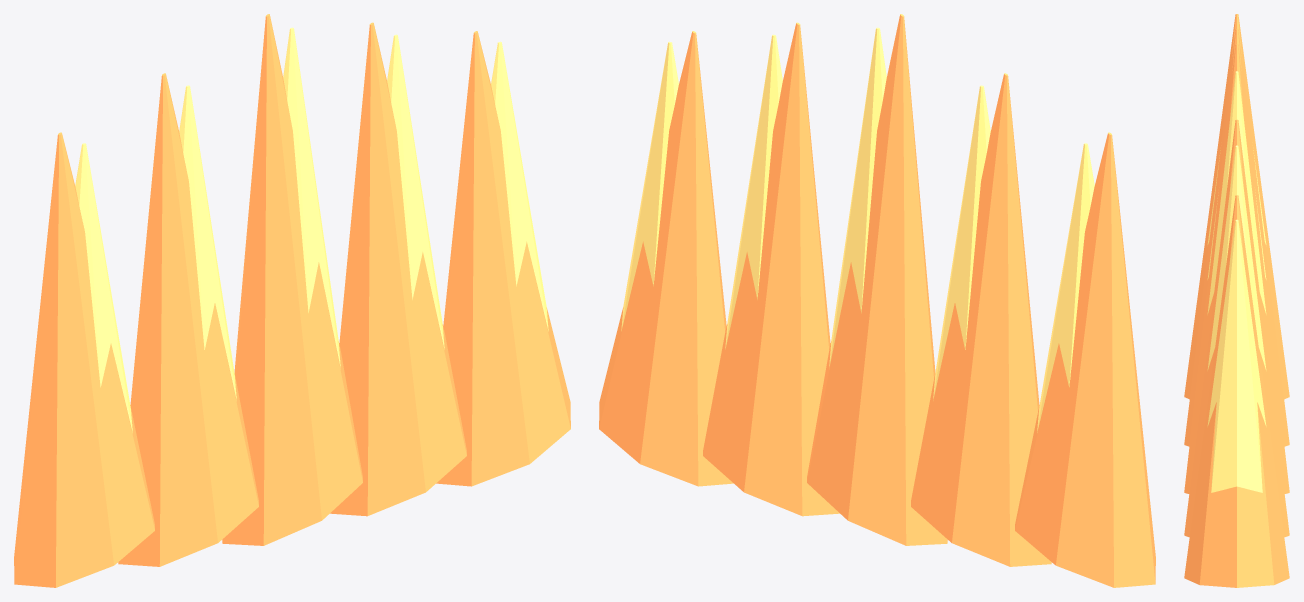
Rendered from ember_gate_veil.glb.
The picture shows the model from 3 angles, left to right: view 1: azimuth 30°, elevation 25°; view 2: azimuth 150°, elevation 25°; view 3: azimuth 270°, elevation 25°; orthographic projection. The views are drawn at different scales.
Parts seen in each view (by area): view 1: FlameLayer_0.002, FlameLayer_0, FlameLayer_0.001, FlameLayer_0.003, FlameLayer_0.004, FlameLayer_1.002, FlameLayer_1.001, FlameLayer_1.003, FlameLayer_1.004, FlameLayer_1; view 2: FlameLayer_0.002, FlameLayer_0, FlameLayer_0.001, FlameLayer_0.003, FlameLayer_0.004, FlameLayer_1.002, FlameLayer_1.001, FlameLayer_1.003, FlameLayer_1.004, FlameLayer_1; view 3: FlameLayer_0.004, FlameLayer_1.004, FlameLayer_0.002, FlameLayer_0.003, FlameLayer_0.001, FlameLayer_0, FlameLayer_1.003, FlameLayer_1.002, FlameLayer_1, FlameLayer_1.001.
Part boxes in pixels (x1,y1,x2,y2): FlameLayer_0.002: (222,14,362,545); FlameLayer_0: (14,132,154,587); FlameLayer_0.001: (118,73,258,566); FlameLayer_0.003: (330,22,466,516); FlameLayer_0.004: (436,31,570,486); FlameLayer_1.002: (283,27,340,367); FlameLayer_1.001: (179,85,236,400); FlameLayer_1.003: (387,34,444,349); FlameLayer_1.004: (491,41,548,331); FlameLayer_1: (75,143,132,432); FlameLayer_0.002: (807,14,947,545); FlameLayer_0: (1015,132,1155,587); FlameLayer_0.001: (911,73,1051,566); FlameLayer_0.003: (703,22,839,516); FlameLayer_0.004: (599,31,733,486); FlameLayer_1.002: (829,27,886,367); FlameLayer_1.001: (933,85,990,400); FlameLayer_1.003: (725,34,782,349); FlameLayer_1.004: (621,41,678,331); FlameLayer_1: (1037,143,1094,432); FlameLayer_0.004: (1184,195,1289,587); FlameLayer_1.004: (1207,219,1266,492); FlameLayer_0.002: (1184,44,1289,493); FlameLayer_0.003: (1184,119,1289,537); FlameLayer_0.001: (1184,29,1289,446); FlameLayer_0: (1184,14,1289,399); FlameLayer_1.003: (1207,145,1266,370); FlameLayer_1.002: (1207,71,1266,314); FlameLayer_1: (1207,150,1266,244); FlameLayer_1.001: (1207,192,1266,279).
Size of the model in its own units: 5.08 by 4.53 by 0.936.
